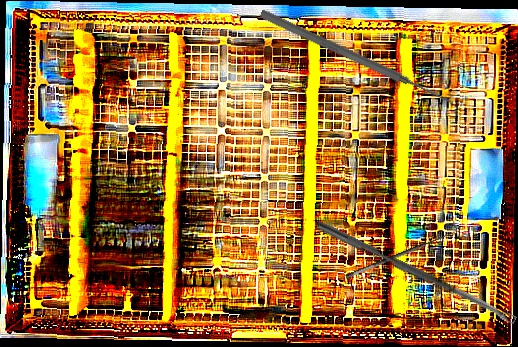Hook Surgical: (341, 220, 462, 281)
Pusher: (258, 7, 457, 110)
Surgical Spoon: (313, 220, 518, 326)
